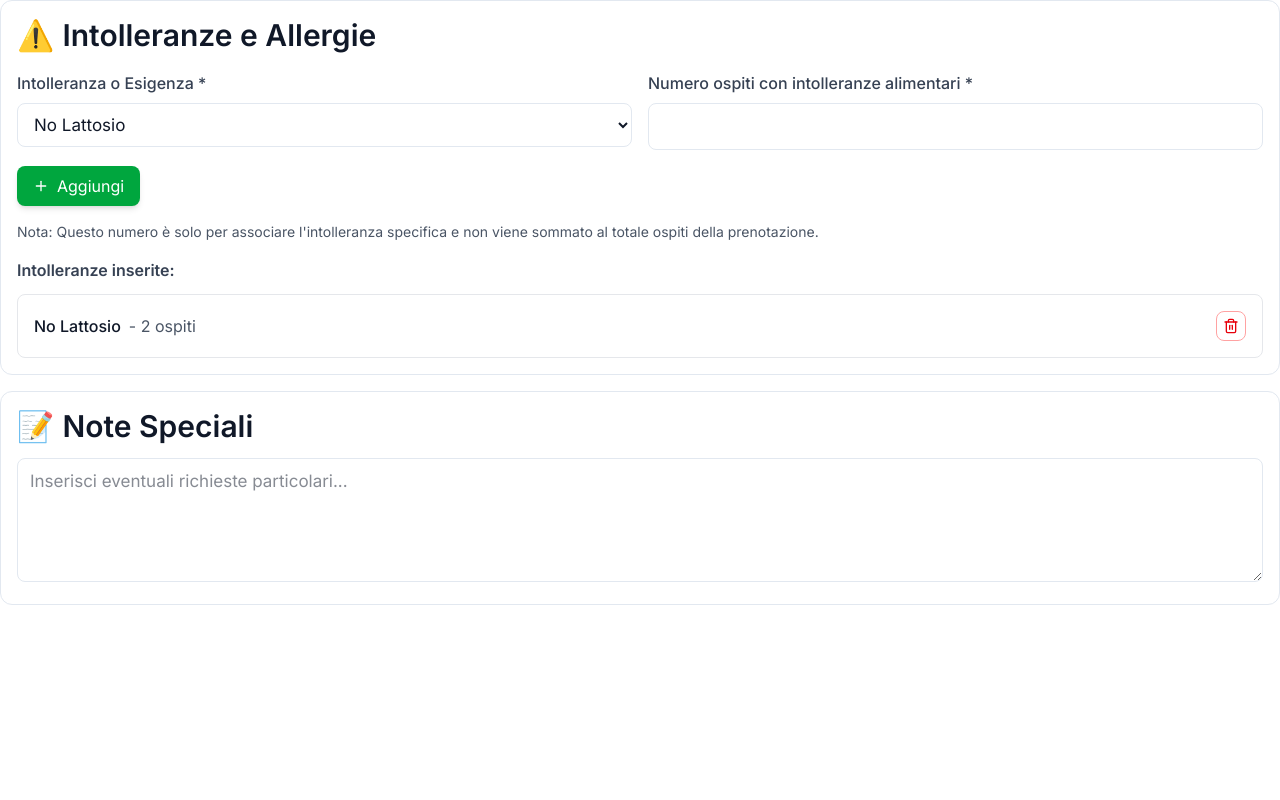
Scenario: DietaryTab — delete confirmation › does NOT delete when clicking Annulla
The image size is (1280, 800).
Click the 2nd button: (1231, 326) [1216,311,1246,341]
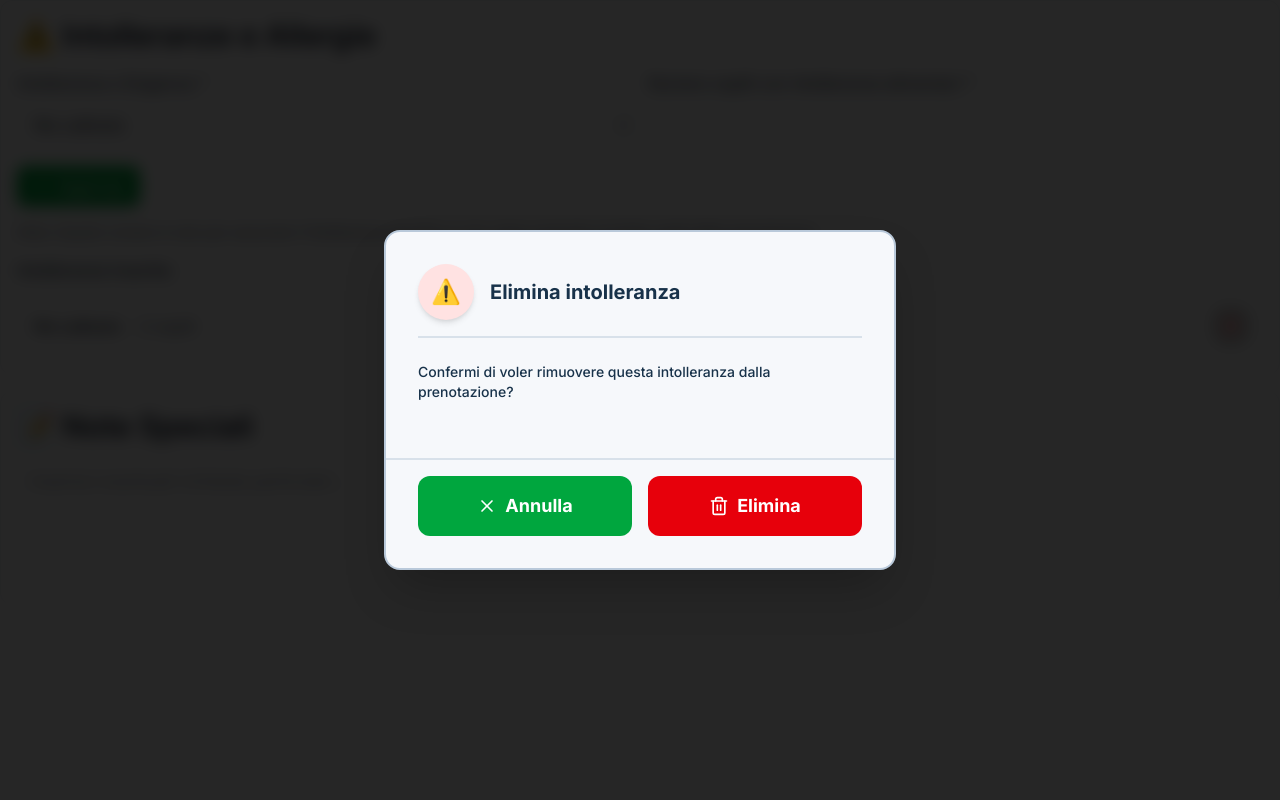
Note: Click Annulla (green button)
Click the button "Annulla": (525, 506) [418,476,632,536]
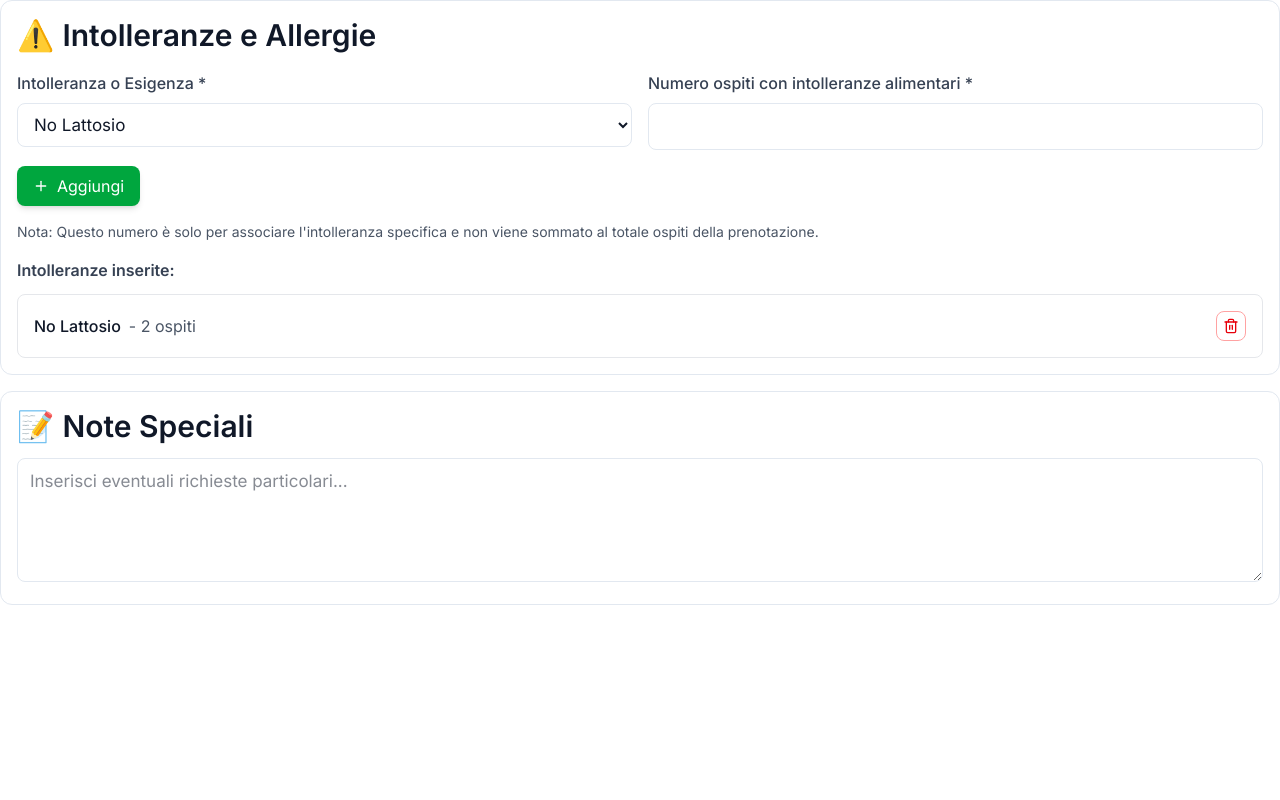
Result: the heading "Elimina intolleranza" is gone
